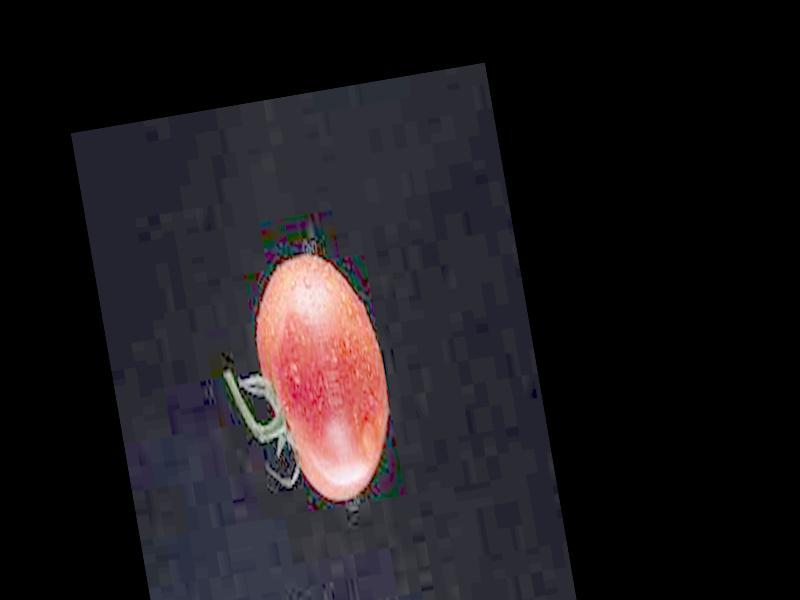Tomato: (242, 244, 404, 509)
